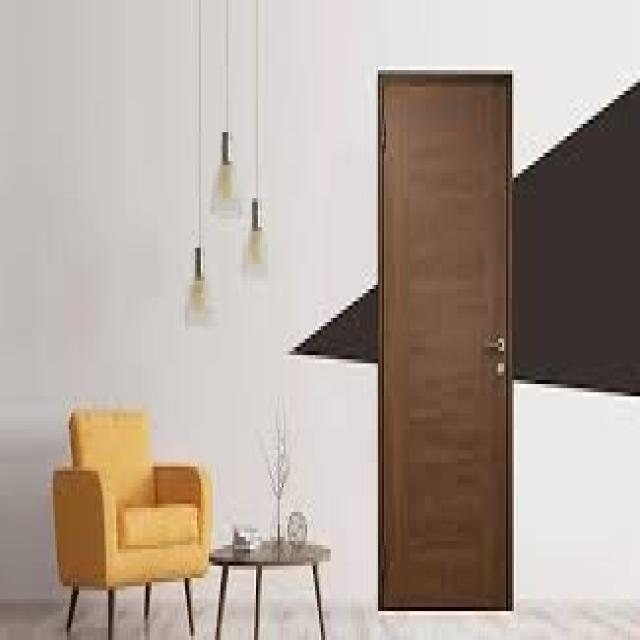door: (377, 70, 513, 611)
